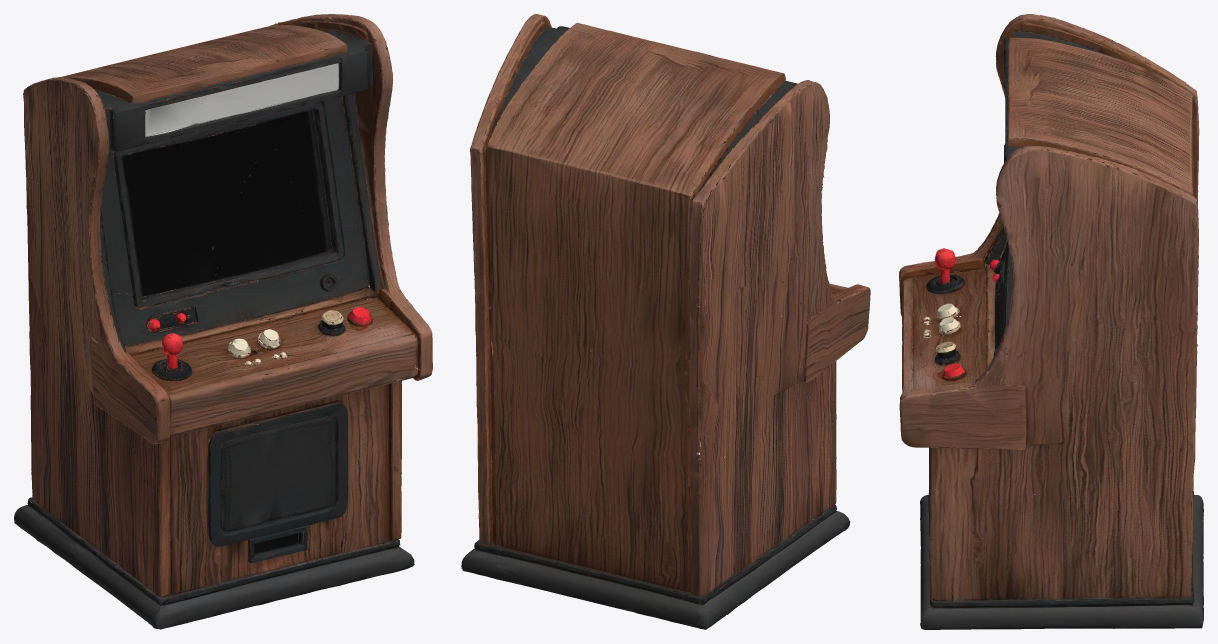
Rendered from arcade-packed.glb.
3 renders of one model, left to right at view 1: azimuth 30°, elevation 25°; view 2: azimuth 150°, elevation 25°; view 3: azimuth 270°, elevation 25°, orthographic. The views are drawn at different scales.
Visible parts, largest first — view 1: arcade_walnut_body_0; view 2: arcade_walnut_body_0; view 3: arcade_walnut_body_0.
Boxes of the visible parts, x1,y1,x2,y2 form: arcade_walnut_body_0: (14, 14, 432, 629); arcade_walnut_body_0: (461, 14, 870, 629); arcade_walnut_body_0: (899, 14, 1203, 629).
Size of the model in its own units: 0.6976 by 1.13 by 0.6391.
Materials: 1 (1 with a texture image).
